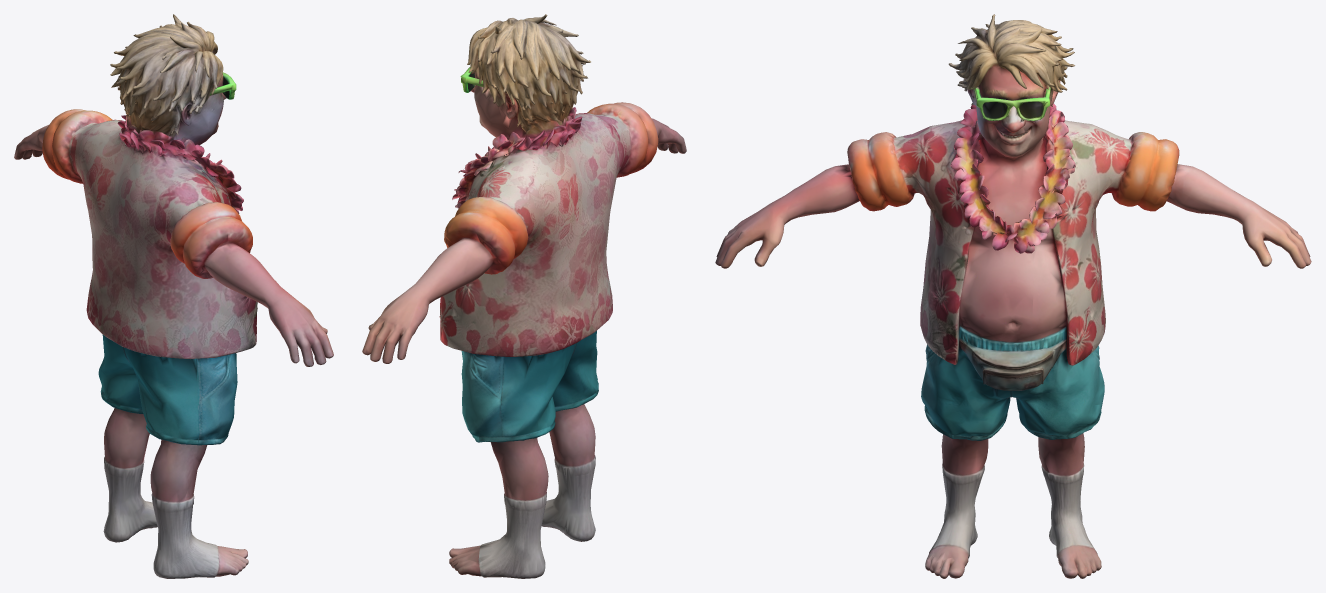
File: the-haole.glb
The picture shows the model from 3 angles, left to right: view 1: azimuth 30°, elevation 25°; view 2: azimuth 150°, elevation 25°; view 3: azimuth 270°, elevation 25°; orthographic projection. The views are drawn at different scales.
Parts seen in each view (by area): view 1: haole; view 2: haole; view 3: haole.
Part boxes in pixels (bbox=[...]): haole: bbox=[14, 14, 333, 578]; haole: bbox=[362, 14, 686, 578]; haole: bbox=[715, 14, 1311, 578].
Size of the model in its own units: 0.2774 by 0.9786 by 0.9784.
Materials: 1 (1 with a texture image).
